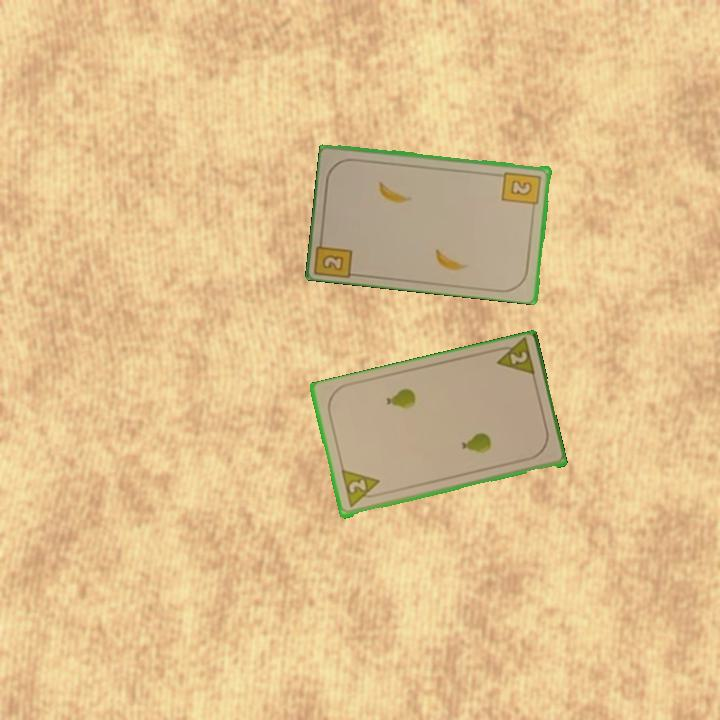2b: (313, 231, 356, 279), (499, 168, 544, 213)
2p: (489, 336, 538, 381), (338, 467, 384, 512)
